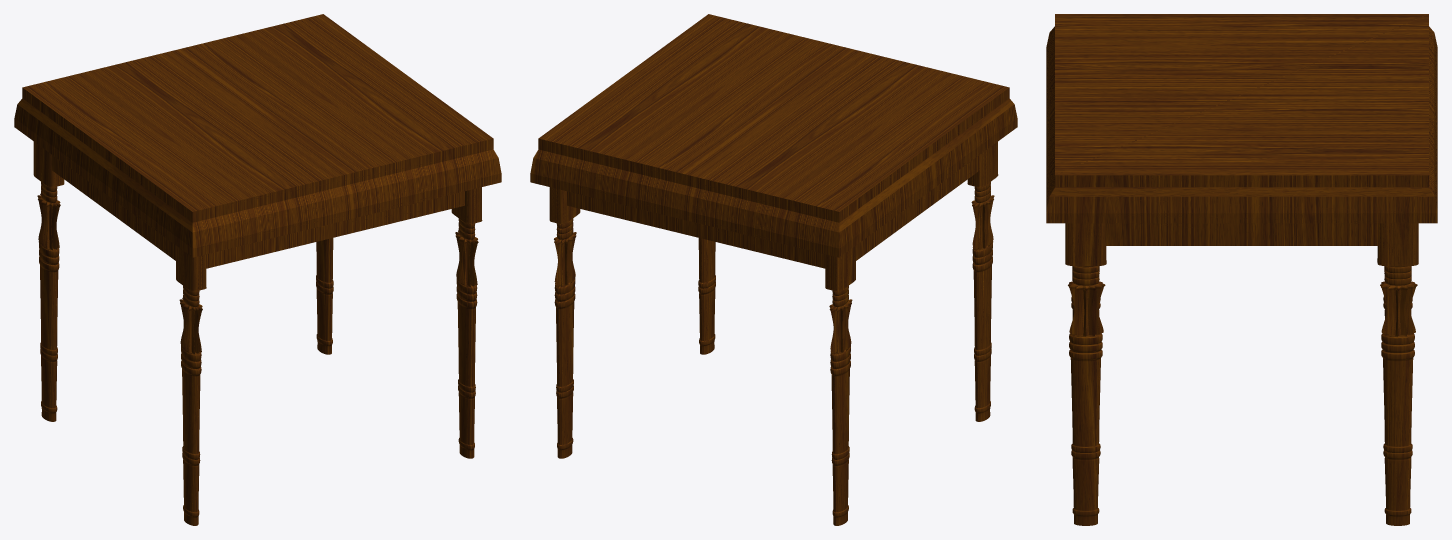
The model's file is dining_table.fbx.
3 views of the same model, side by side, from view 1: azimuth 30°, elevation 25°; view 2: azimuth 150°, elevation 25°; view 3: azimuth 270°, elevation 25° (orthographic). The views are drawn at different scales.
Parts seen in each view (by area): view 1: table.004.export; view 2: table.004.export; view 3: table.004.export.
Boxes of the visible parts, left/top/right/bottom form: table.004.export: left=14, top=14, right=501, bottom=525; table.004.export: left=530, top=14, right=1017, bottom=525; table.004.export: left=1046, top=14, right=1437, bottom=525.
Size of the model in its own units: 100 by 100 by 100.
